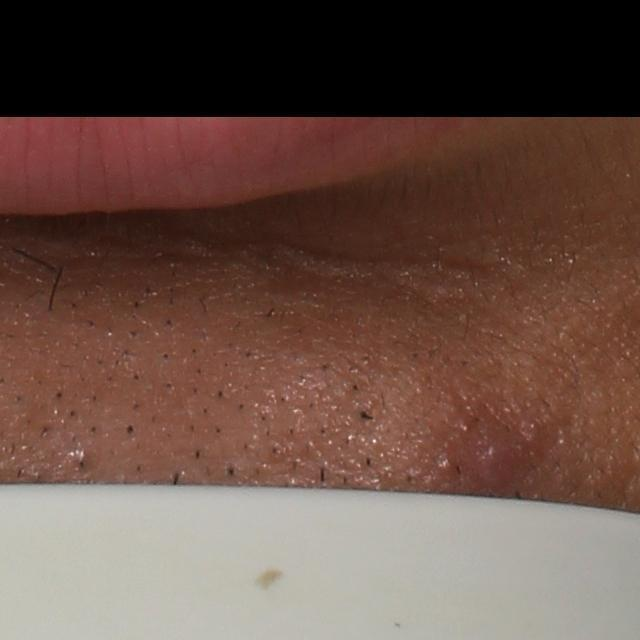papule: (475, 443, 518, 484)
